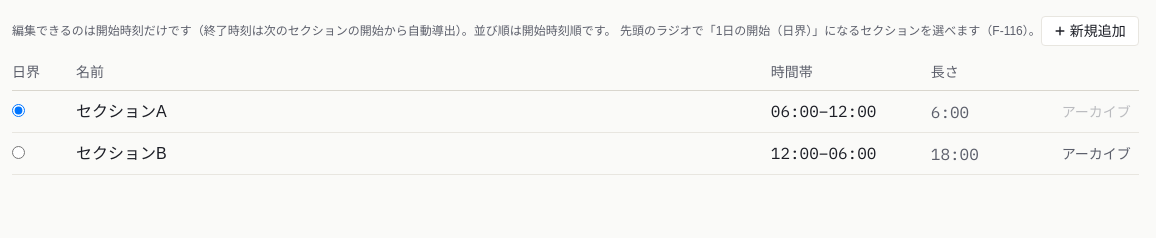
Test: SectionsTable（画面定義書03 §3.1: 開始時刻・日界の選択・終了時刻は導出） › 日界セクションの選択（F-116 / 画面定義書03 §3.1） › アーカイブの失敗（有効セクション最低1件）はメッセージで知らせる（§3.1）
The image size is (1156, 238).
Click the button "アーカイブ" next to "18:00" at (1096, 154), box [1054, 144, 1139, 164]
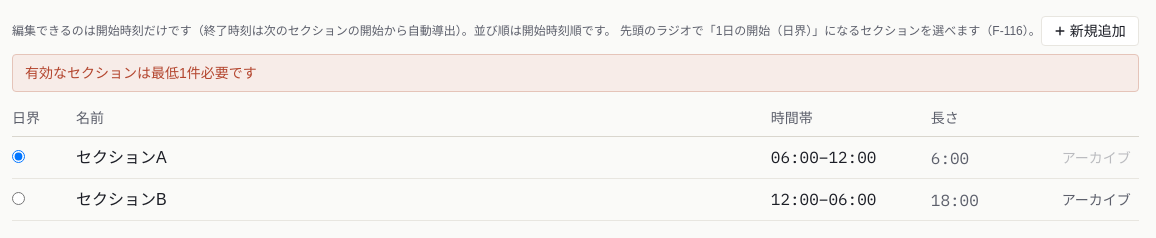
Result: the text "有効なセクションは最低1件必要です" is shown at [12, 54, 1139, 92]
